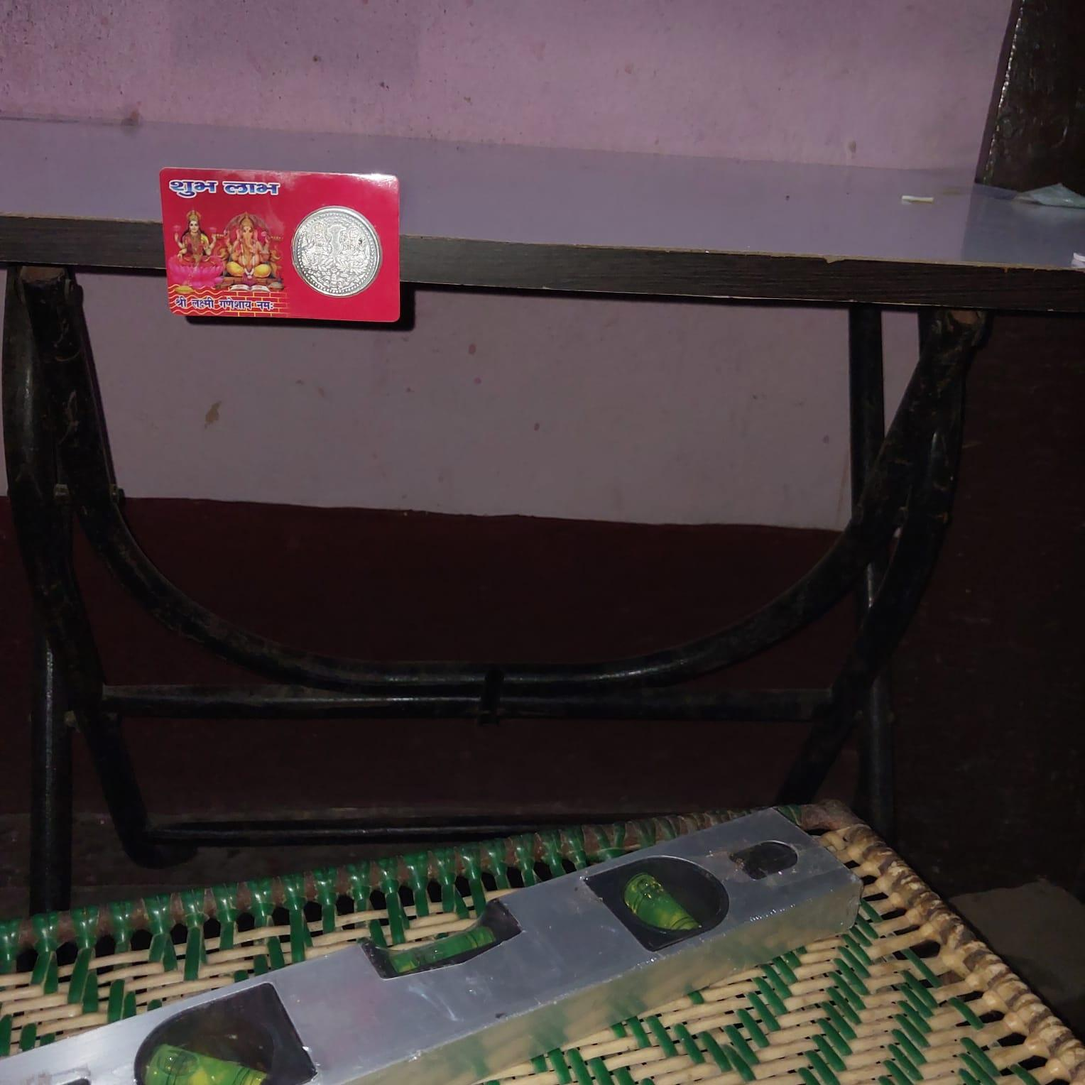blessing_card: (150, 155, 414, 329)
